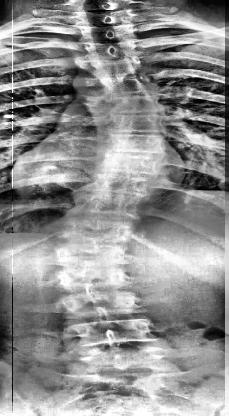Vertebrae: (65, 315, 158, 349), (55, 289, 147, 320), (51, 235, 131, 268), (53, 260, 133, 292), (56, 214, 136, 245), (82, 88, 165, 115), (74, 194, 148, 223), (90, 131, 170, 157), (82, 72, 156, 100), (92, 111, 172, 135), (80, 52, 144, 80), (91, 151, 165, 175), (87, 172, 157, 196), (79, 39, 145, 63), (76, 22, 138, 42)
